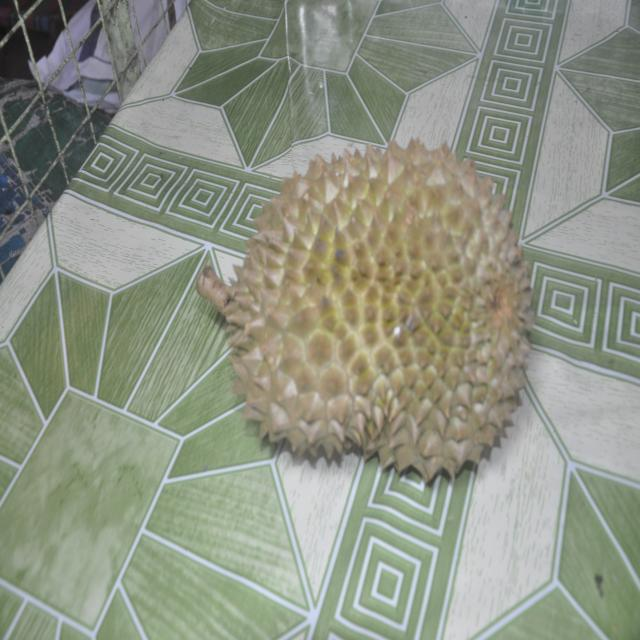mature: (196, 140, 534, 481)
